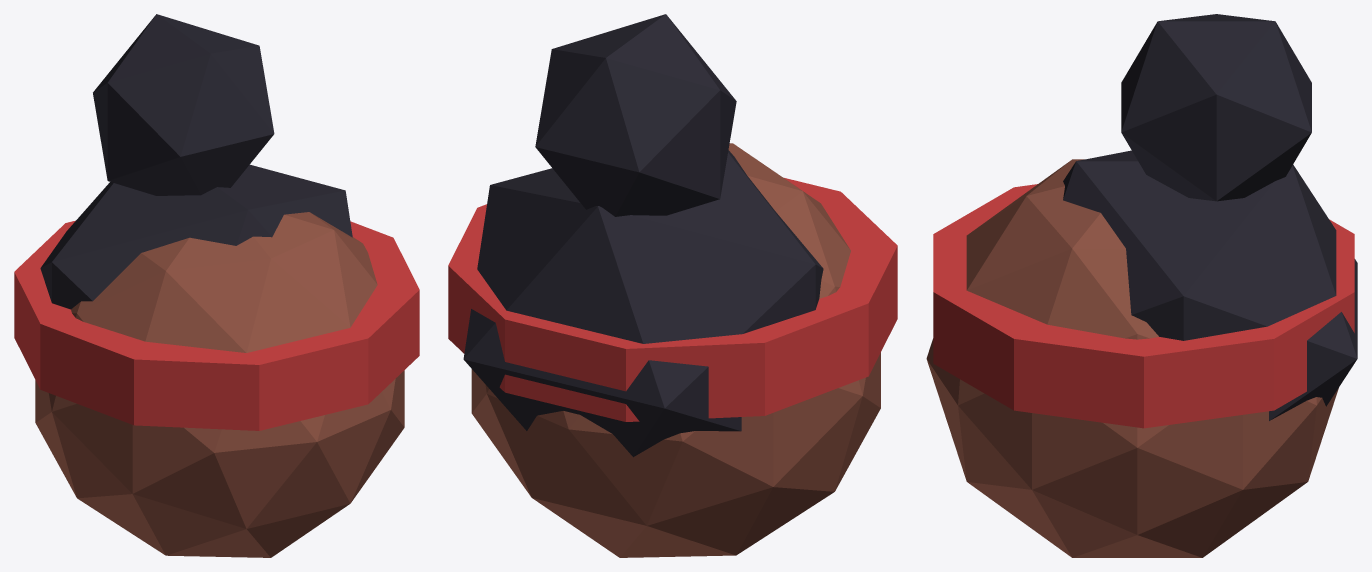
File: head.glb
The picture shows the model from 3 angles, left to right: view 1: azimuth 30°, elevation 25°; view 2: azimuth 150°, elevation 25°; view 3: azimuth 270°, elevation 25°; orthographic projection. The views are drawn at different scales.
Parts seen in each view (by area): view 1: Head; view 2: Head; view 3: Head.
Boxes of the visible parts, x1=… form: Head: x1=14, y1=14, x2=419, y2=557; Head: x1=448, y1=14, x2=897, y2=557; Head: x1=926, y1=14, x2=1357, y2=557.
Size of the model in its own units: 0.336 by 0.4423 by 0.3269.
